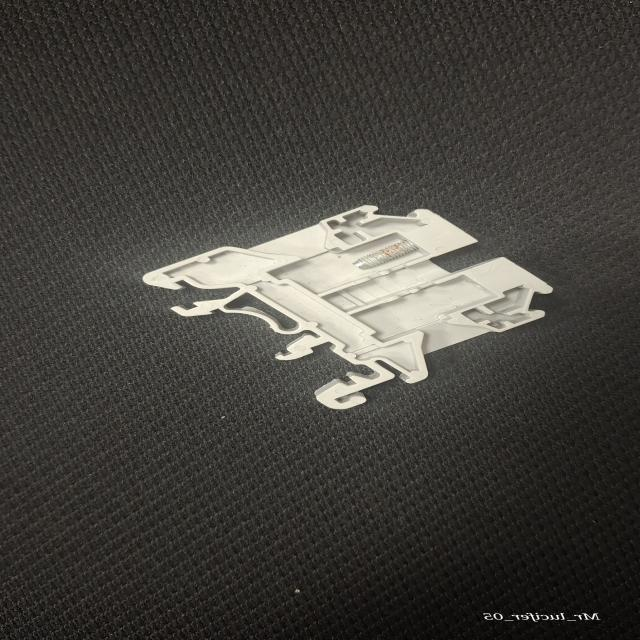Reject: (128, 206, 576, 414)
